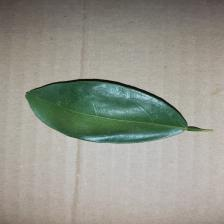healthy: (26, 79, 188, 145)
